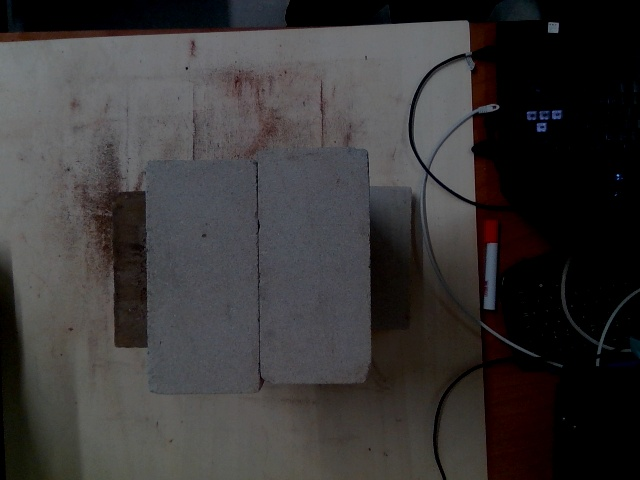brick: (148, 163, 254, 396), (261, 150, 366, 383)
